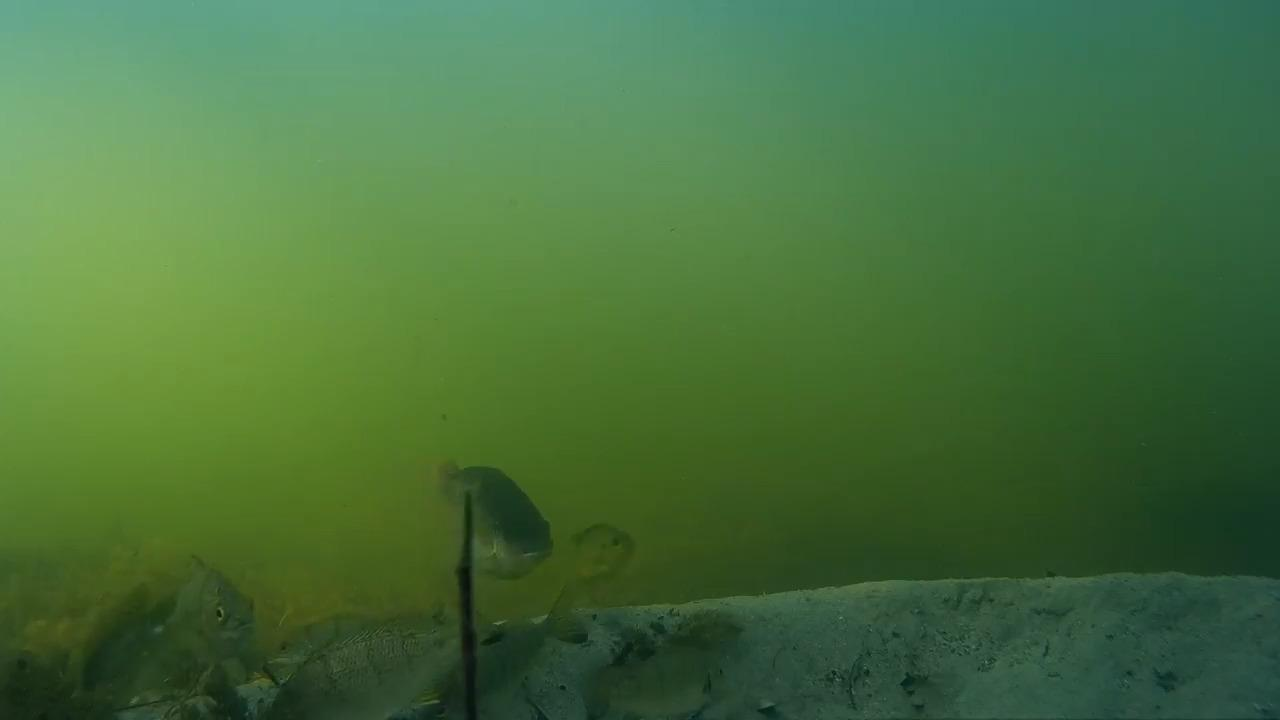Tilapia: (401, 572, 586, 710), (273, 610, 474, 720), (429, 456, 558, 589), (123, 546, 258, 672), (588, 636, 753, 720), (568, 512, 643, 592)
